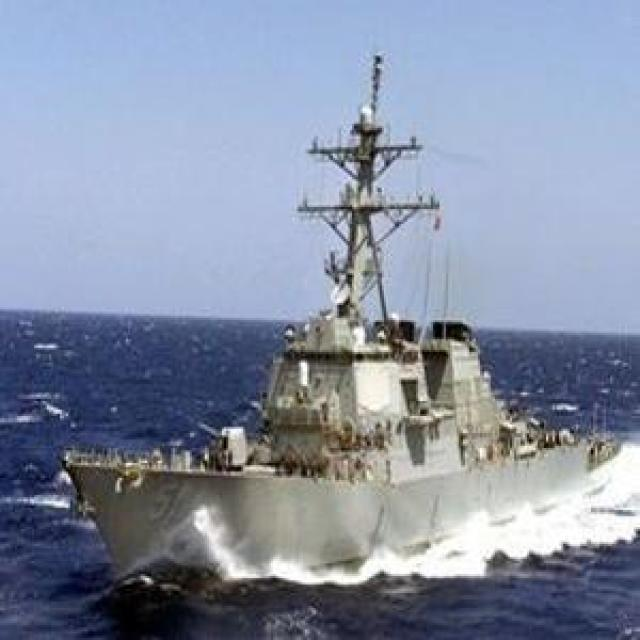navalvessels: (44, 57, 640, 580)
